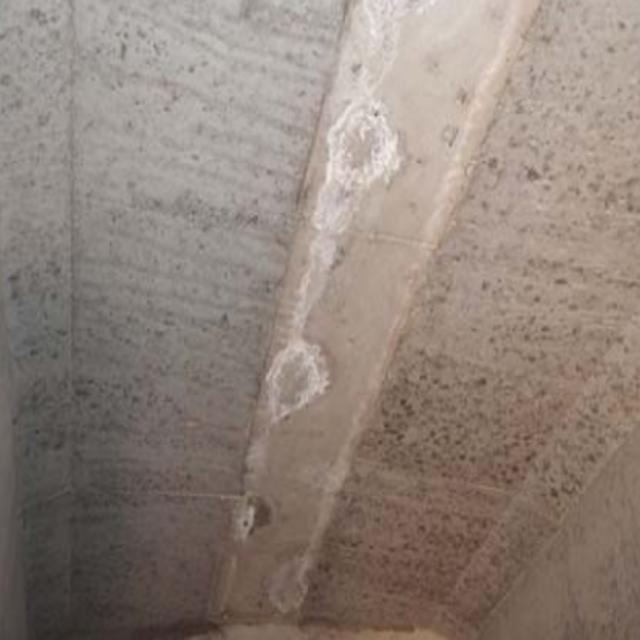freelime: (240, 86, 397, 431)
